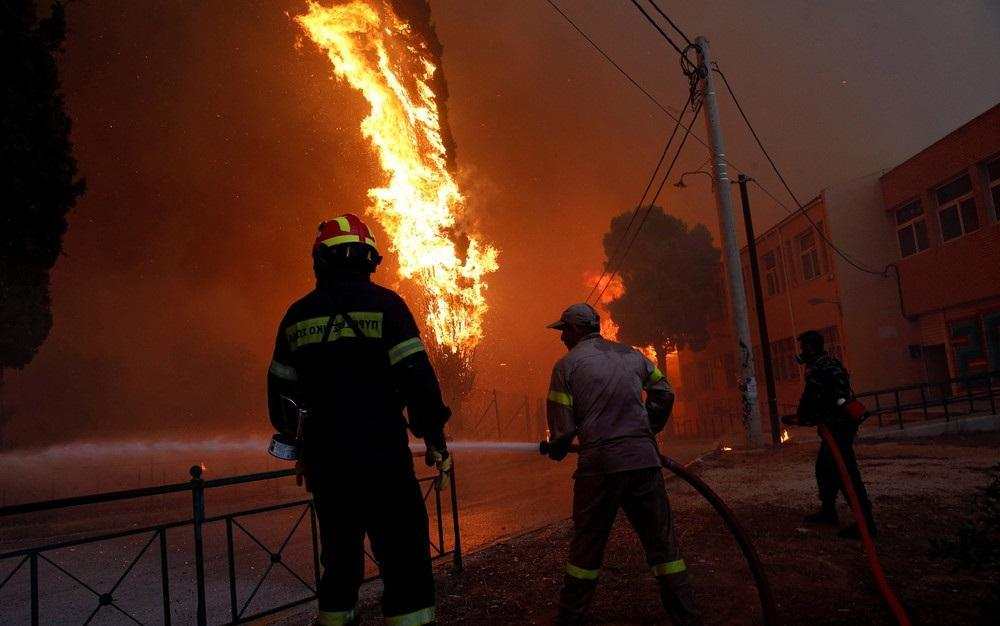Fire: (283, 9, 510, 364), (579, 256, 681, 373)
